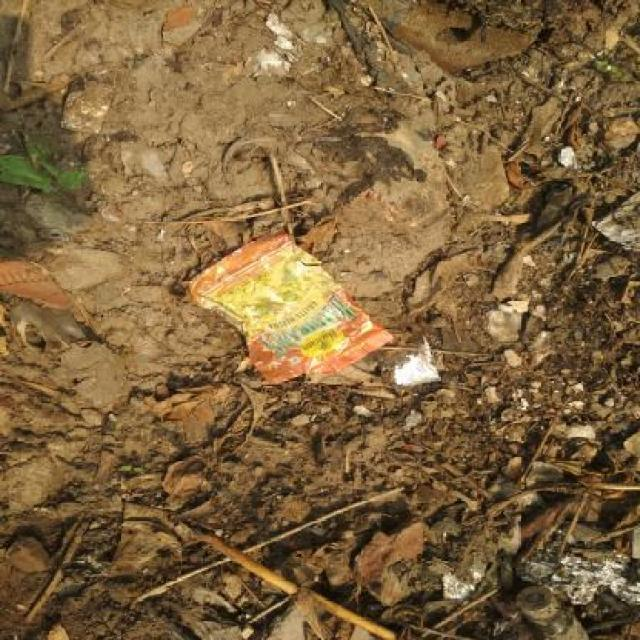garbage: (60, 62, 639, 640)
